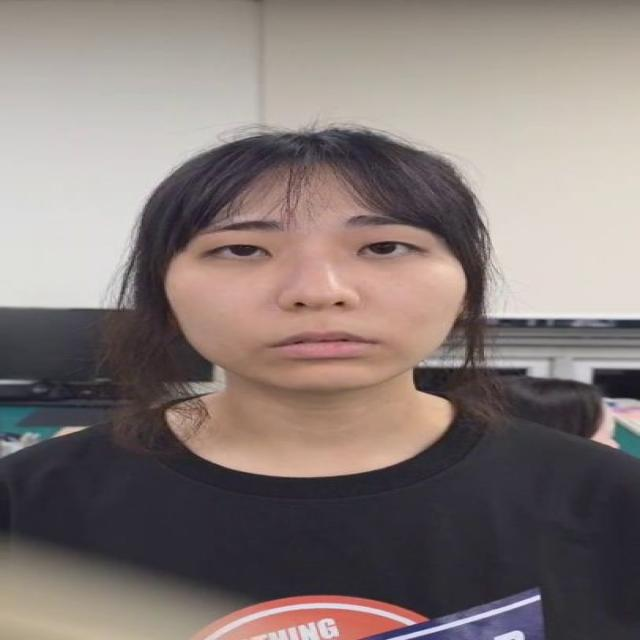eyes: (194, 235, 438, 273)
face: (162, 131, 479, 393)
iris_center: (363, 240, 392, 258), (226, 243, 253, 253)
